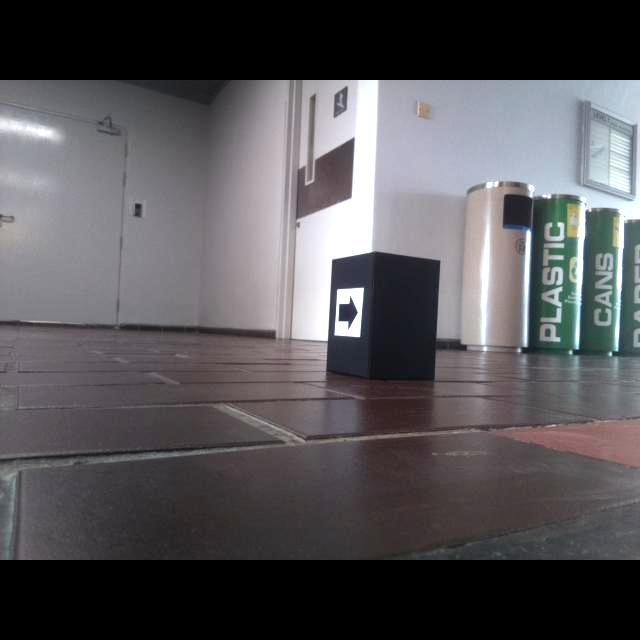RIGHT: (338, 293, 359, 332)
